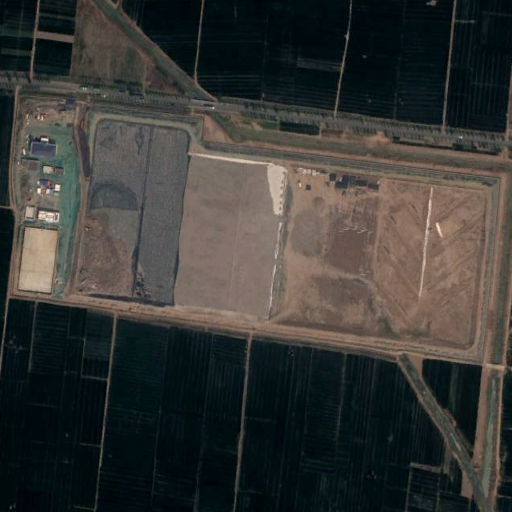lf: (74, 107, 496, 354)
